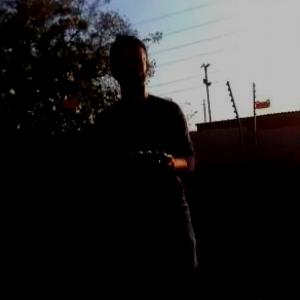follow: (88, 28, 212, 299)
